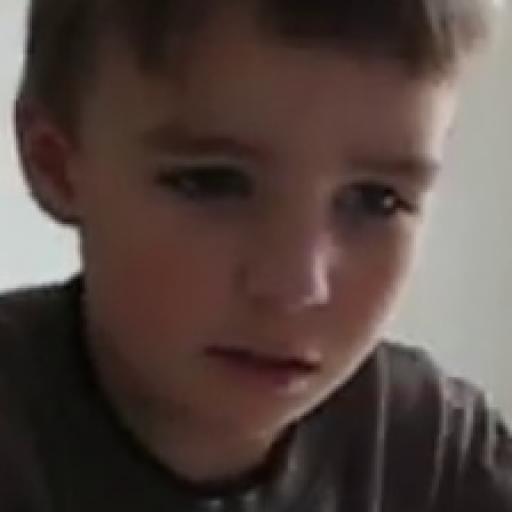Autism: (73, 23, 468, 506)
